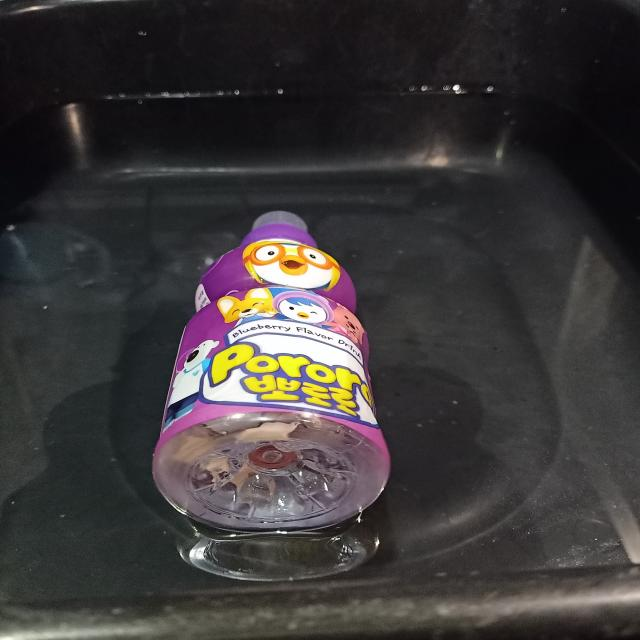Plastic Bottle: (153, 211, 390, 580)
